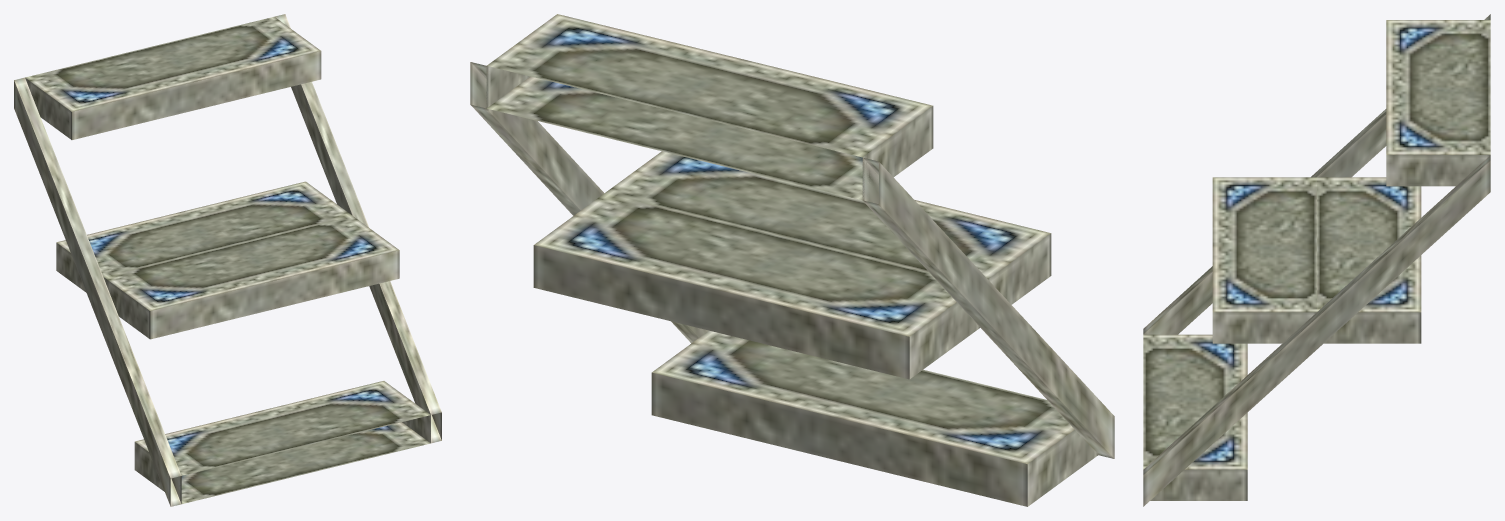
Rendered from stairs.glb.
The picture shows the model from 3 angles, left to right: view 1: azimuth 30°, elevation 25°; view 2: azimuth 150°, elevation 25°; view 3: azimuth 270°, elevation 25°; orthographic projection. The views are drawn at different scales.
Visible parts, largest first — view 1: stair; view 2: stair; view 3: stair.
Boxes of the visible parts, left/top/right/bottom form: stair: left=14, top=14, right=441, bottom=506; stair: left=470, top=14, right=1114, bottom=506; stair: left=1143, top=14, right=1490, bottom=506.
Bounding box in the file's own units: 5 × 5.5 × 5.
Materials: 1 (1 with a texture image).
